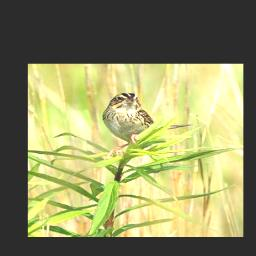Sparrow: (101, 91, 194, 162)
